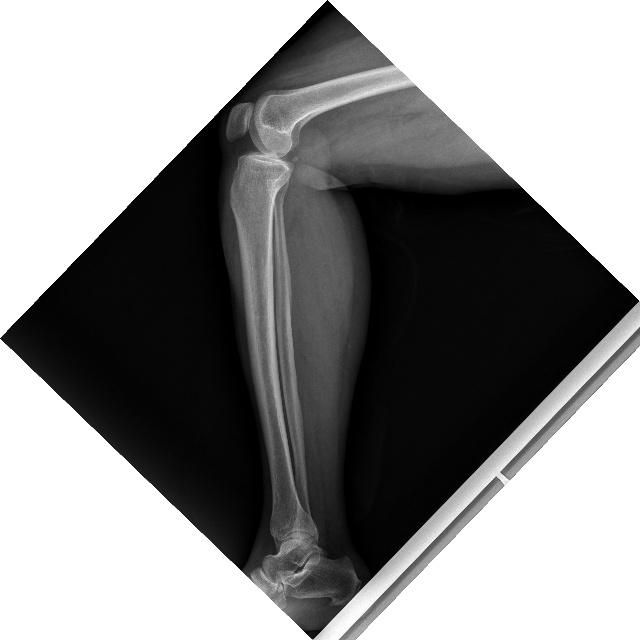Knee: (217, 95, 311, 192)
